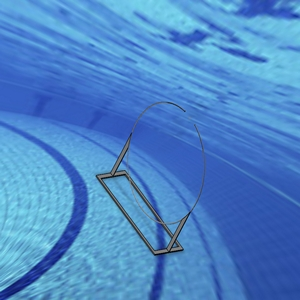circle: (96, 100, 209, 255)
